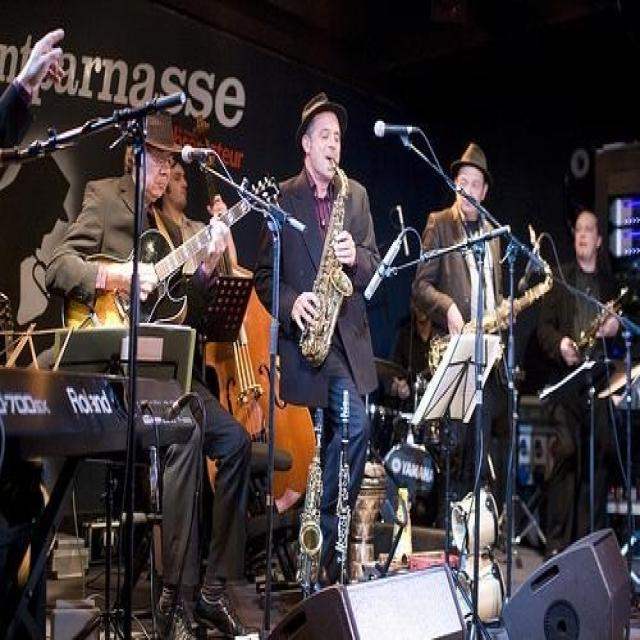clarinet: (337, 386, 352, 587)
guitar: (59, 176, 280, 336)
saxophone: (424, 225, 553, 378), (299, 159, 357, 365), (294, 399, 325, 584)
